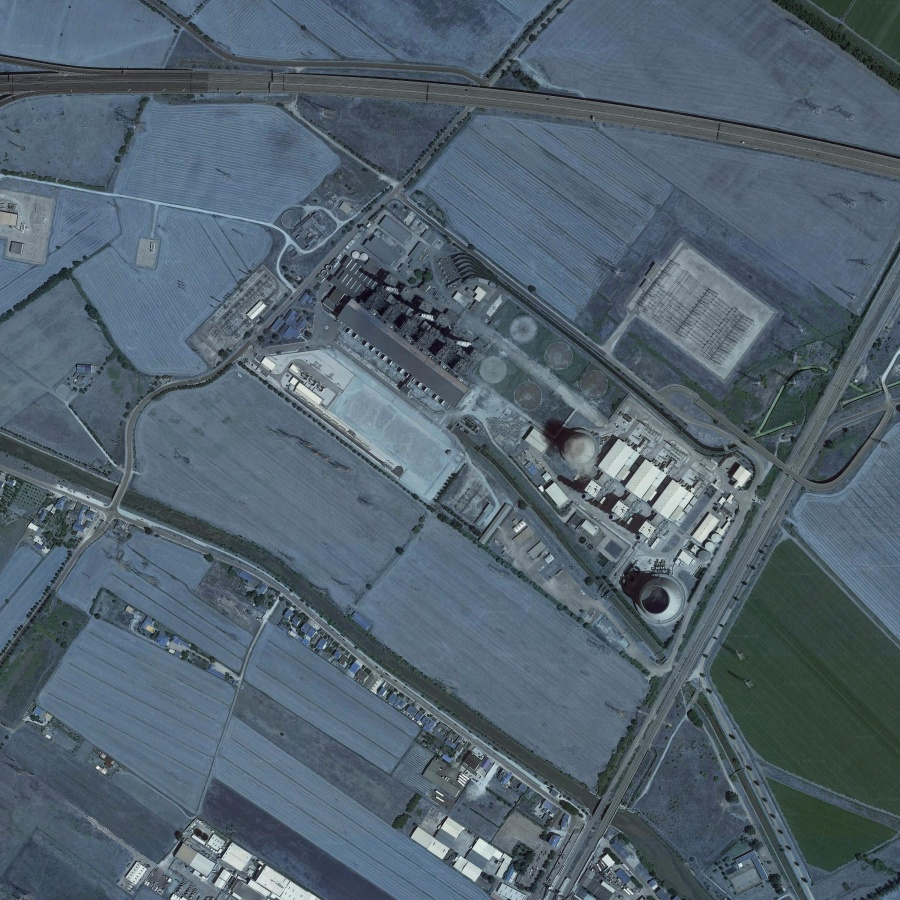PowerPlant: (295, 234, 749, 641)
